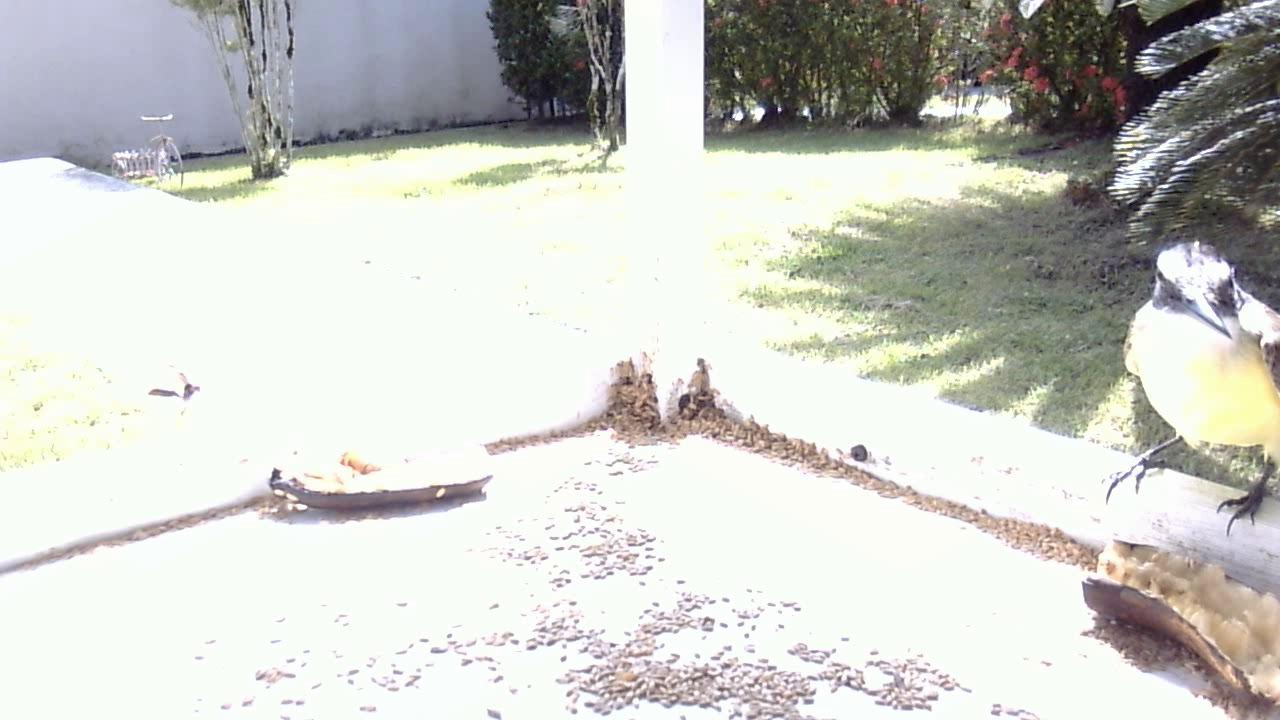bem_te_vi: (1092, 228, 1280, 559)
